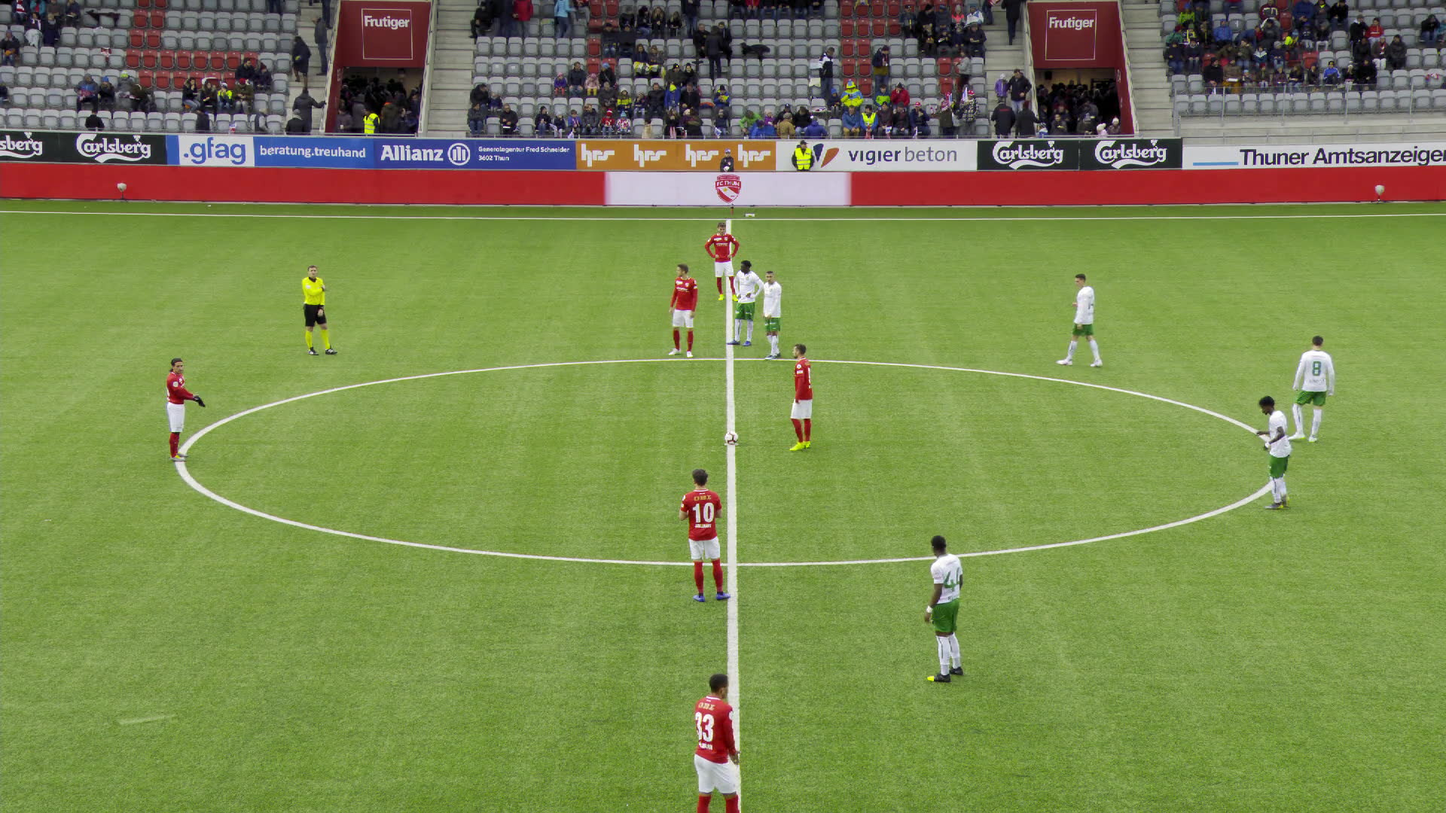ball: (723, 431, 739, 446)
player: (678, 467, 732, 601), (691, 672, 743, 811), (921, 533, 966, 683), (1290, 335, 1334, 443), (1256, 393, 1293, 510), (1057, 272, 1100, 366), (165, 357, 203, 462), (725, 259, 764, 346), (703, 221, 739, 301), (788, 343, 814, 452), (668, 261, 697, 356), (761, 270, 782, 360)
referee: (300, 264, 334, 355)
